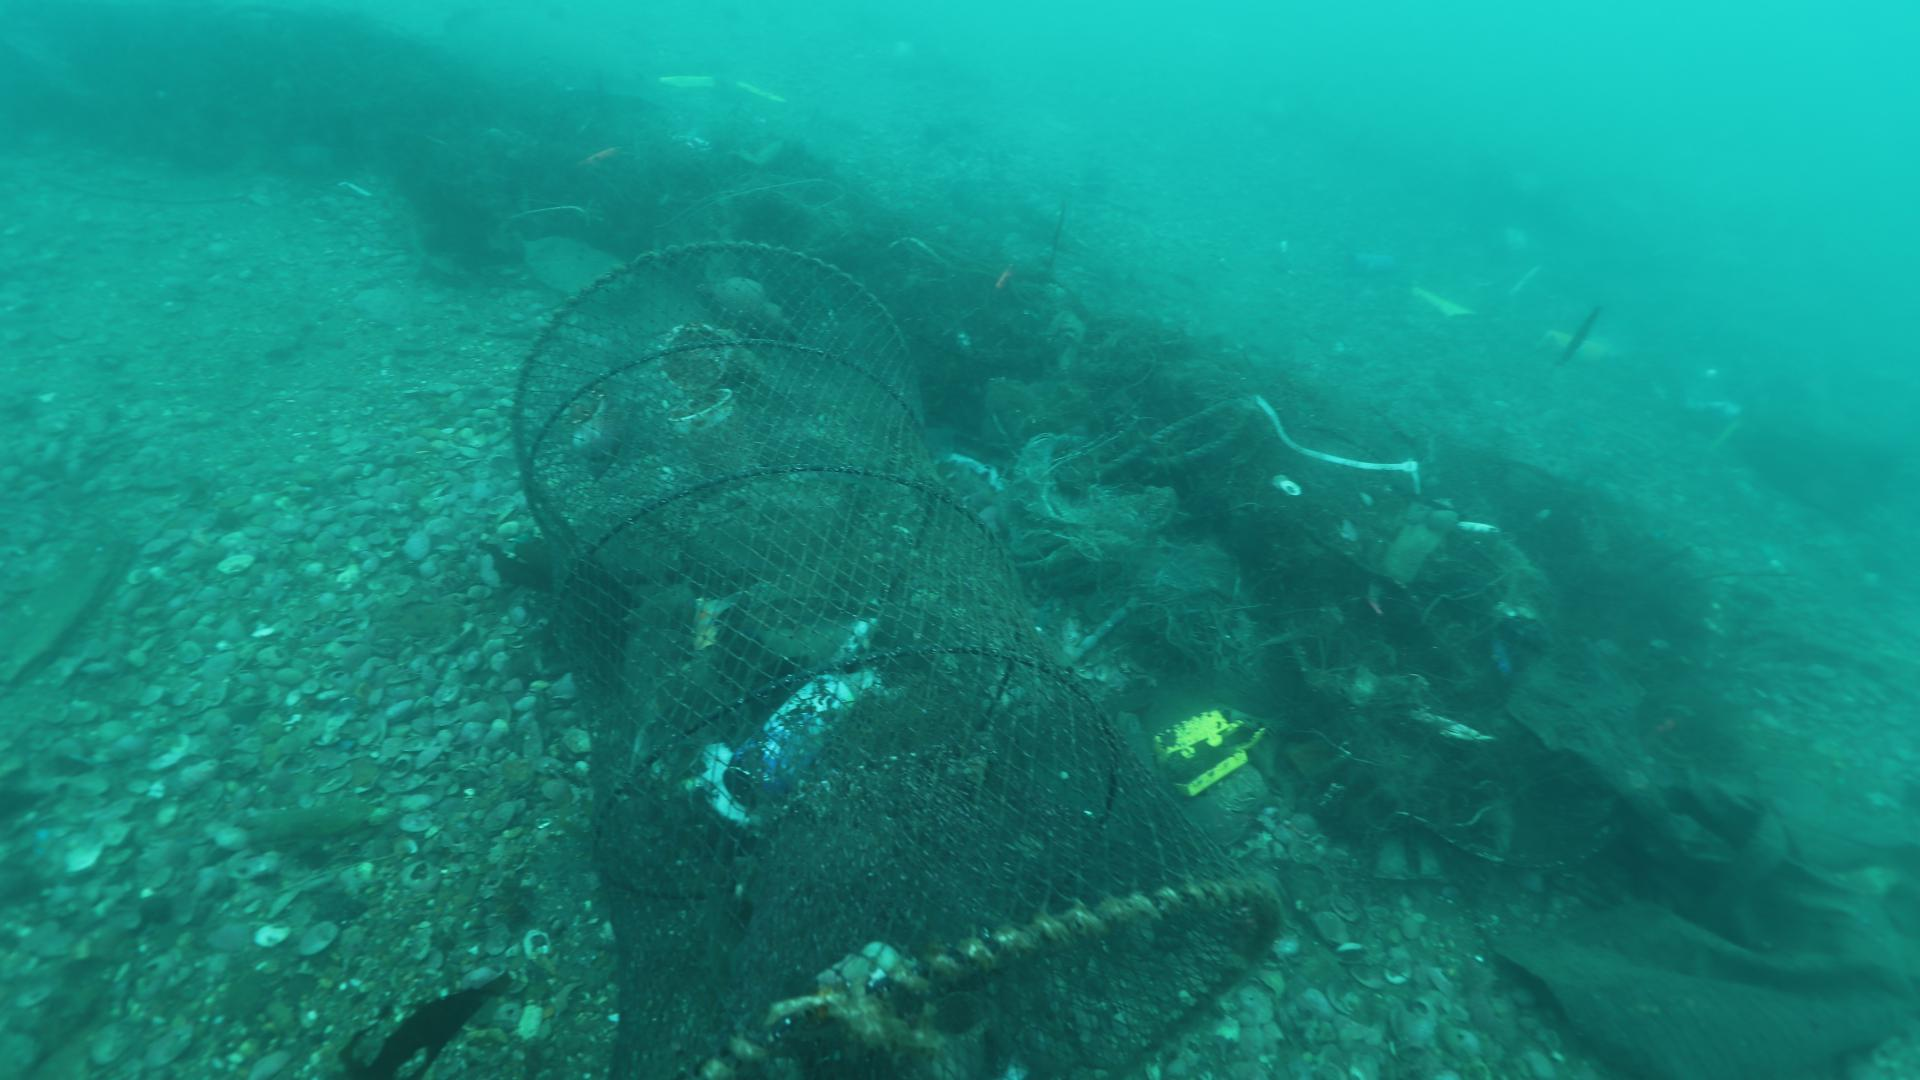spring fish trap: (508, 237, 1291, 1080)
